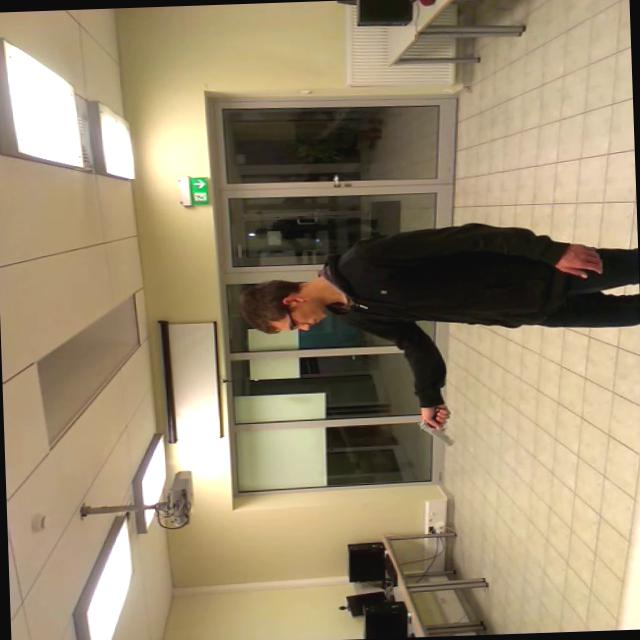handgun: (409, 401, 467, 448)
